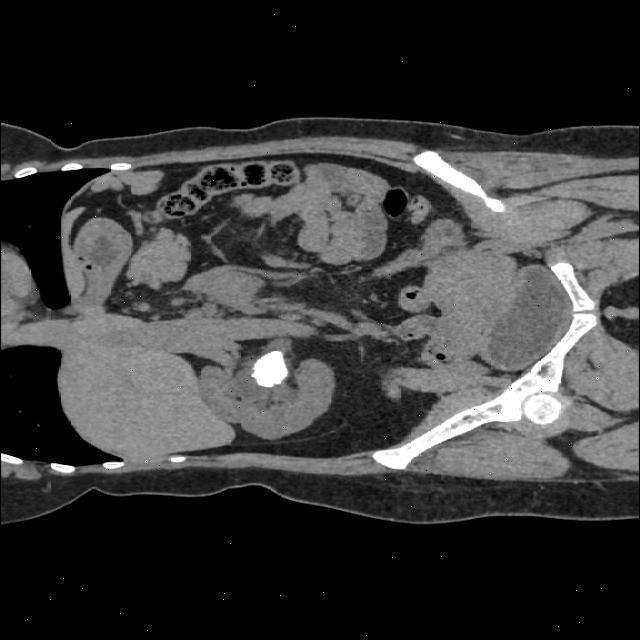kidneystone: (252, 350, 288, 386)
